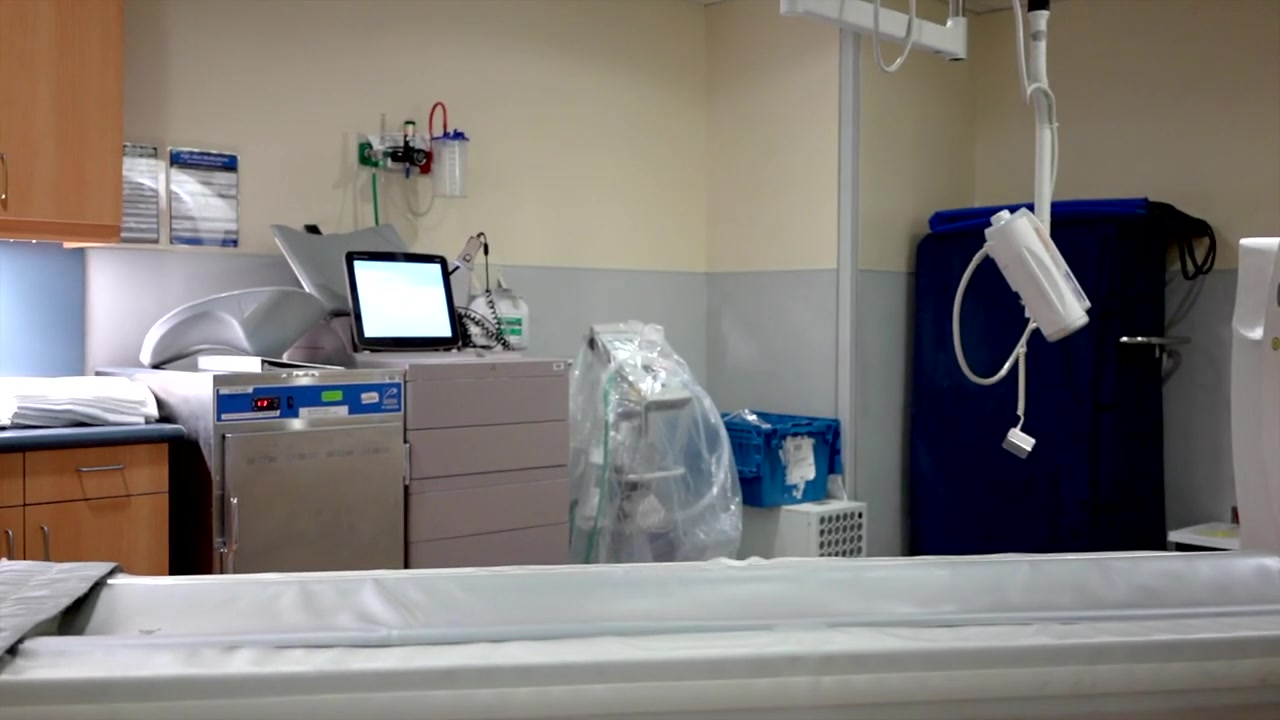bedside_monitor: (347, 251, 457, 347)
cabinet: (1, 1, 128, 246)
counter: (1, 423, 176, 570)
drawer: (361, 343, 573, 564)
handle: (219, 492, 243, 553), (1, 527, 24, 559), (38, 522, 57, 560), (73, 464, 133, 472), (1, 153, 8, 200)
waste_bin: (712, 400, 838, 502)
xray_bed: (1, 551, 1280, 720)
